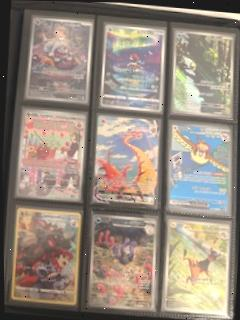card: (82, 208, 162, 317), (155, 211, 234, 320), (11, 103, 90, 208), (85, 110, 165, 213), (159, 118, 240, 219), (7, 205, 84, 310), (93, 17, 169, 116), (166, 23, 240, 124), (20, 10, 96, 108)
